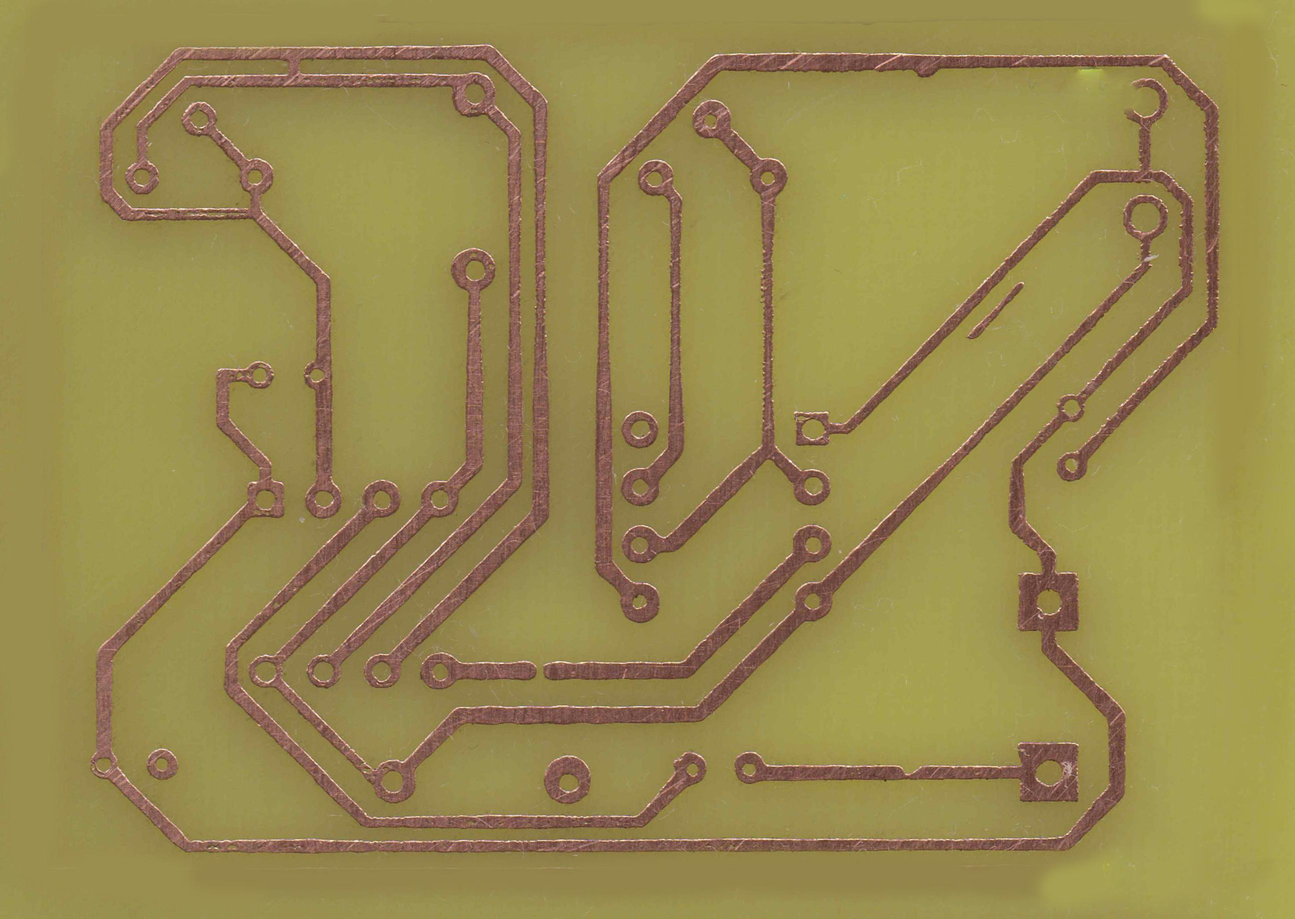missing_hole: (1120, 77, 1169, 127)
mouse_bite: (895, 760, 929, 784)
open_circuit: (520, 653, 556, 684)
short: (277, 43, 311, 95)
spur: (909, 51, 944, 80)
spurious_copper: (961, 280, 1028, 342)
